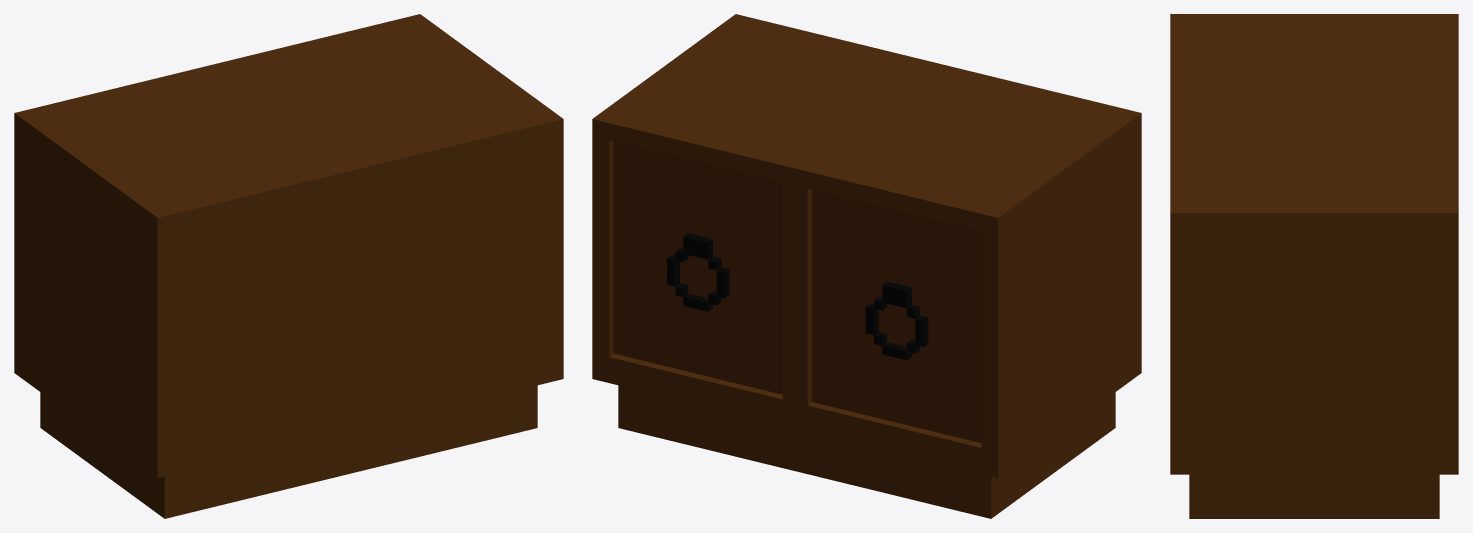
File: Cabinet.obj
The picture shows the model from 3 angles, left to right: view 1: azimuth 30°, elevation 25°; view 2: azimuth 150°, elevation 25°; view 3: azimuth 270°, elevation 25°; orthographic projection.
Bounding box in the file's own units: 4.9 × 3.6 × 3.
Materials: 1 (1 with a texture image).
